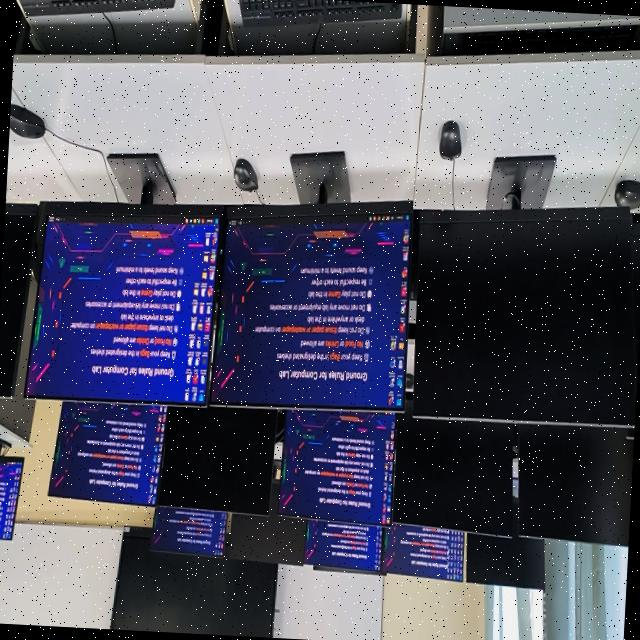Digital board: (111, 529, 278, 638)
Keyboard: (240, 0, 401, 27), (22, 0, 174, 16)
Monitor: (413, 208, 637, 428), (26, 184, 219, 406), (212, 204, 412, 412), (393, 400, 513, 537), (519, 426, 634, 547), (279, 411, 396, 527), (157, 407, 277, 515), (49, 402, 167, 507), (0, 205, 38, 397), (225, 481, 307, 566), (384, 525, 465, 582), (466, 534, 545, 590), (304, 521, 385, 574), (152, 507, 228, 558), (0, 457, 24, 541), (632, 222, 640, 388)
Mouse: (10, 104, 46, 139), (439, 121, 462, 161), (234, 159, 258, 193), (615, 181, 640, 209)
